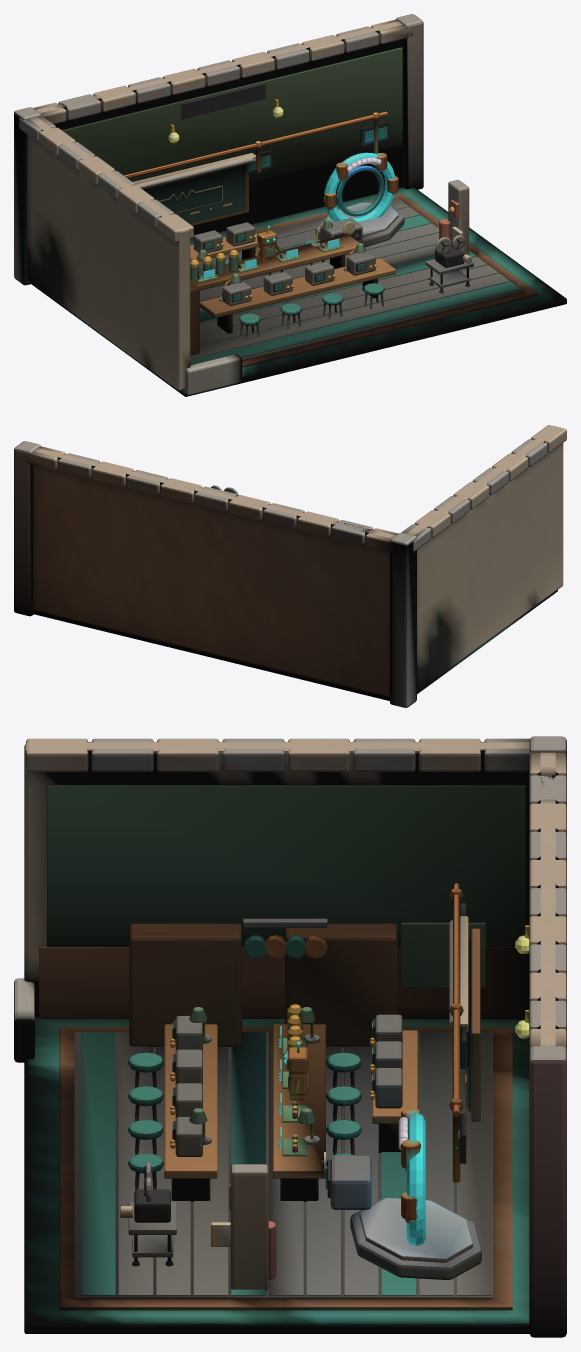
Rendered from electronics-room.original.glb.
The picture shows the model from 3 angles, top to bottom: view 1: azimuth 30°, elevation 25°; view 2: azimuth 150°, elevation 25°; view 3: azimuth 270°, elevation 25°; orthographic projection. The views are drawn at different scales.
Visible parts, largest first — view 1: ROOM_electronica__shell, ELECTRO__progress_board__mesh, ELECTRO__bench_0__mesh, ELECTRO__bench_1__mesh, ELECTRO__projector__mesh, ELECTRO__ohmdal_portal, ELECTRO__progress_robot__mesh, ELECTRO__oscilloscope_0_3__mesh, ELECTRO__oscilloscope_0_1__mesh, ELECTRO__oscilloscope_0_0__mesh, ELECTRO__oscilloscope_0_2__mesh; view 2: ROOM_electronica__shell; view 3: ROOM_electronica__shell, ELECTRO__bench_1__mesh, ELECTRO__bench_0__mesh, ELECTRO__projector__mesh, ELECTRO__ohmdal_portal, ELECTRO__progress_robot__mesh, ELECTRO__oscilloscope_0_3__mesh, ELECTRO__oscilloscope_0_1__mesh, ELECTRO__oscilloscope_0_0__mesh, ELECTRO__oscilloscope_0_2__mesh.
Part boxes in pixels (<box>): ROOM_electronica__shell: <box>14,14,566,396</box>; ELECTRO__progress_board__mesh: <box>145,167,244,222</box>; ELECTRO__bench_0__mesh: <box>200,258,395,333</box>; ELECTRO__bench_1__mesh: <box>190,234,358,289</box>; ELECTRO__projector__mesh: <box>425,235,473,293</box>; ELECTRO__ohmdal_portal: <box>324,152,395,221</box>; ELECTRO__progress_robot__mesh: <box>254,225,280,262</box>; ELECTRO__oscilloscope_0_3__mesh: <box>346,251,376,275</box>; ELECTRO__oscilloscope_0_1__mesh: <box>263,272,293,295</box>; ELECTRO__oscilloscope_0_0__mesh: <box>222,282,252,305</box>; ELECTRO__oscilloscope_0_2__mesh: <box>305,261,335,285</box>; ROOM_electronica__shell: <box>14,425,566,707</box>; ROOM_electronica__shell: <box>14,736,566,1337</box>; ELECTRO__bench_1__mesh: <box>272,1024,325,1201</box>; ELECTRO__bench_0__mesh: <box>164,1024,217,1201</box>; ELECTRO__projector__mesh: <box>120,1162,176,1266</box>; ELECTRO__ohmdal_portal: <box>406,1112,425,1245</box>; ELECTRO__progress_robot__mesh: <box>283,1041,308,1100</box>; ELECTRO__oscilloscope_0_3__mesh: <box>170,1117,202,1156</box>; ELECTRO__oscilloscope_0_1__mesh: <box>170,1049,202,1085</box>; ELECTRO__oscilloscope_0_0__mesh: <box>170,1016,202,1051</box>; ELECTRO__oscilloscope_0_2__mesh: <box>170,1083,202,1119</box>.
Bounding box in the file's own units: 14.7 × 5.96 × 10.56.
